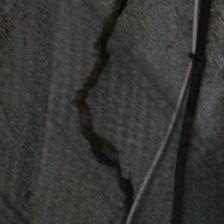Crack: (33, 3, 107, 206)
